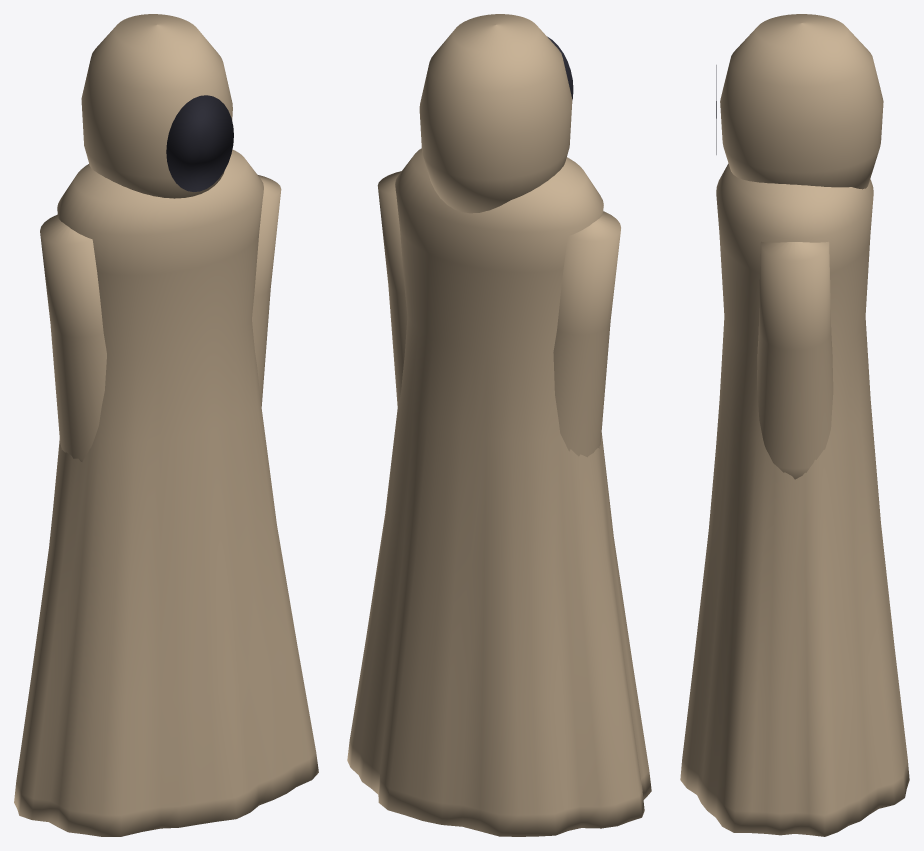
File: figure.glb
3 renders of one model, left to right at view 1: azimuth 30°, elevation 25°; view 2: azimuth 150°, elevation 25°; view 3: azimuth 270°, elevation 25°, orthographic.
Visible parts, largest first — view 1: Robe, Hood, ArmL, FaceShadow, ArmR; view 2: Robe, Hood, ArmL, ArmR; view 3: Robe, Hood, ArmR.
Boxes of the visible parts, x1,y1,x2,y2 form: Robe: (14, 149, 318, 836); Hood: (81, 14, 232, 198); ArmL: (40, 214, 106, 461); FaceShadow: (166, 95, 233, 191); ArmR: (252, 175, 281, 406); Robe: (347, 148, 651, 836); Hood: (419, 14, 572, 213); ArmL: (553, 211, 620, 457); ArmR: (377, 171, 407, 406); Robe: (680, 163, 909, 836); Hood: (720, 14, 883, 189); ArmR: (757, 241, 833, 479).
Size of the model in its own units: 0.6962 by 1.81 by 0.5028.
